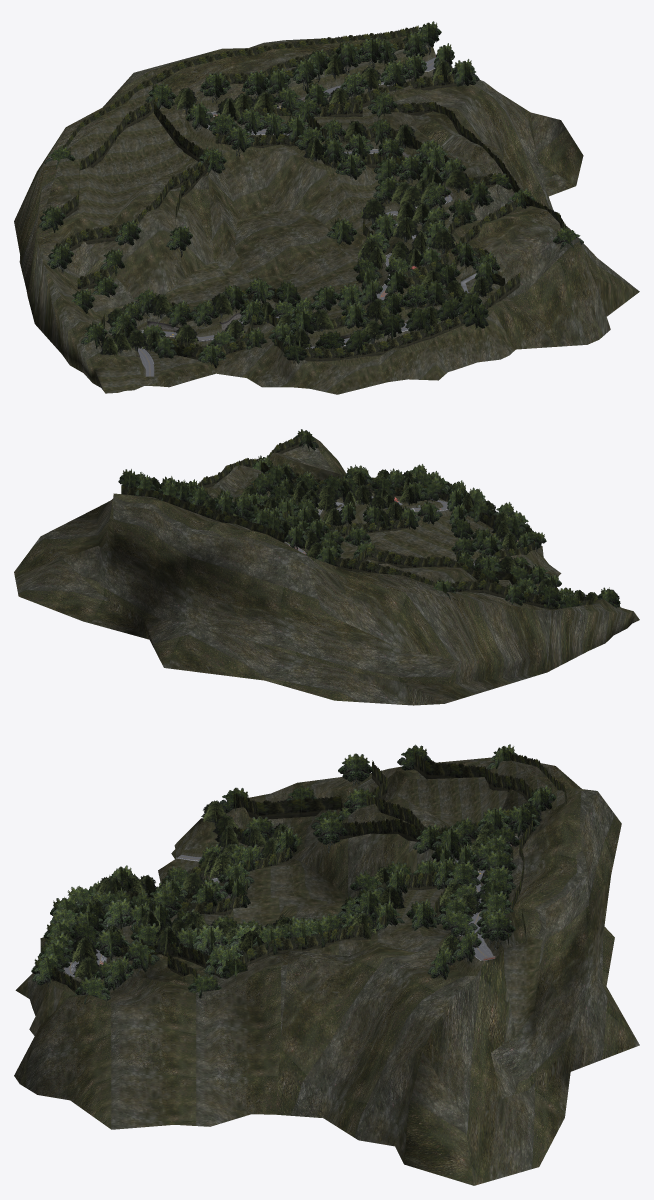
The model's file is mount_akina_final3.obj.
3 views of the same model, one above another, from view 1: azimuth 30°, elevation 25°; view 2: azimuth 150°, elevation 25°; view 3: azimuth 270°, elevation 25° (orthographic). The views are drawn at different scales.
Parts seen in each view (by area): view 1: LODAKINA; view 2: LODAKINA; view 3: LODAKINA.
Boxes of the visible parts, x1=… form: LODAKINA: x1=14, y1=21, x2=639, y2=394; LODAKINA: x1=14, y1=429, x2=639, y2=705; LODAKINA: x1=14, y1=744, x2=639, y2=1185.
Size of the model in its own units: 933 by 248 by 709.
Materials: 21 (20 with a texture image).
